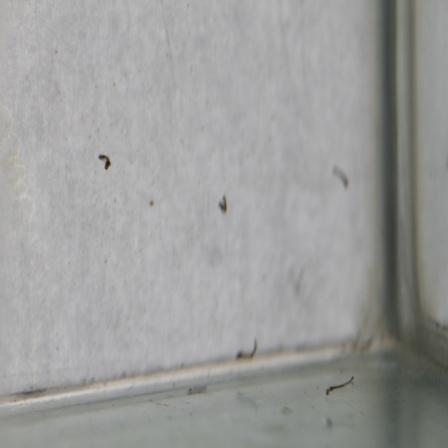Jentik-Nyamuk: (323, 371, 358, 398), (96, 149, 116, 177)
